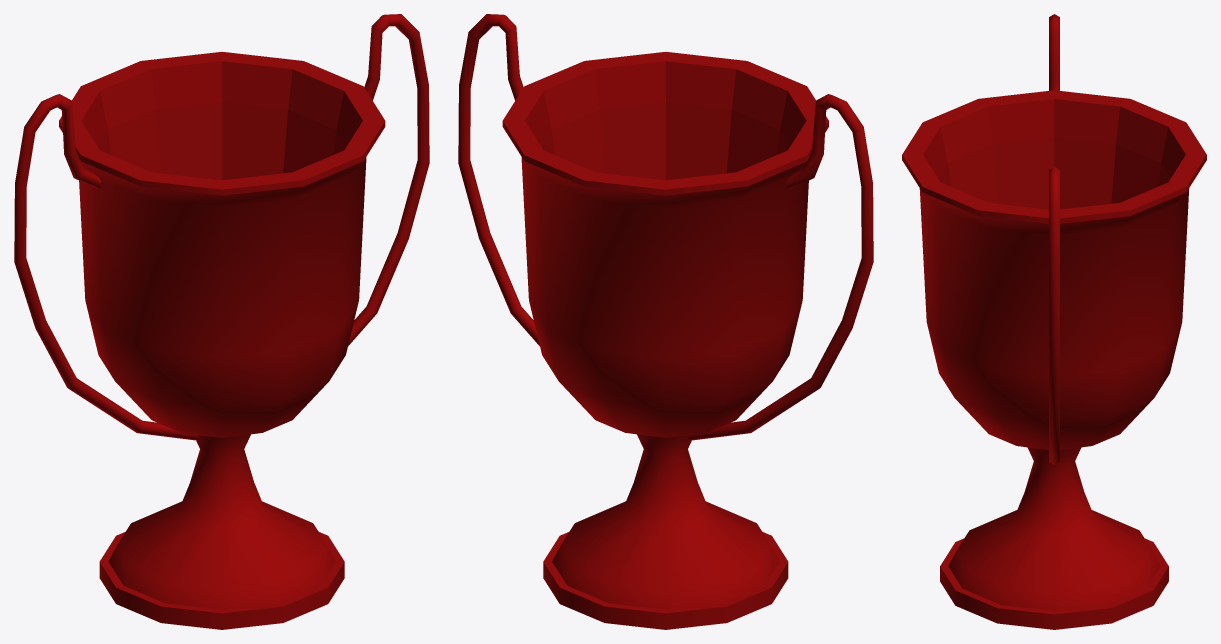
Rendered from copaGenerica2b.FBX.
The picture shows the model from 3 angles, left to right: view 1: azimuth 30°, elevation 25°; view 2: azimuth 150°, elevation 25°; view 3: azimuth 270°, elevation 25°; orthographic projection. The views are drawn at different scales.
Visible parts, largest first — view 1: copaGenerica2b; view 2: copaGenerica2b; view 3: copaGenerica2b.
Part boxes in pixels (x1,y1,x2,y2): copaGenerica2b: (14,14,429,629); copaGenerica2b: (458,14,873,629); copaGenerica2b: (902,14,1206,629).
Size of the model in its own units: 86.98 by 105 by 59.21.
